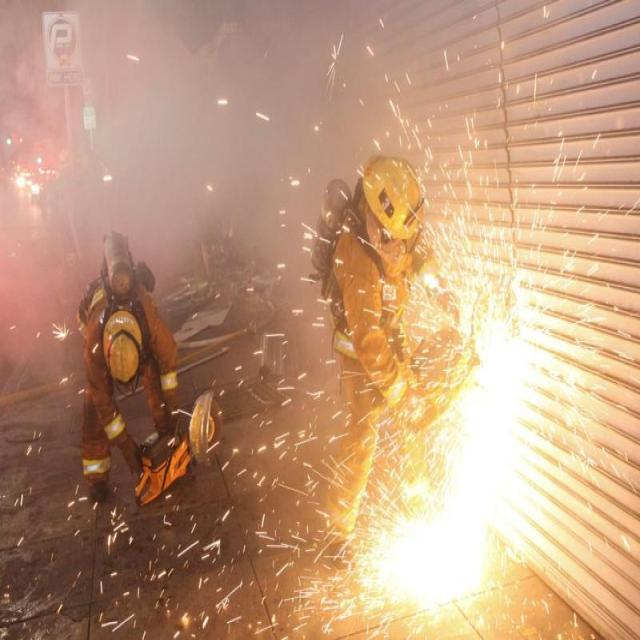Fire: (413, 366, 518, 576)
